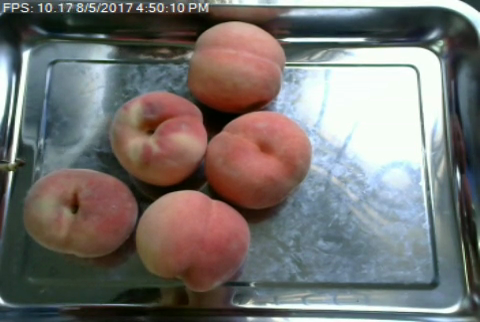Peach: (135, 189, 248, 290), (205, 110, 310, 210), (23, 168, 137, 257), (109, 90, 207, 186), (187, 20, 284, 112)
